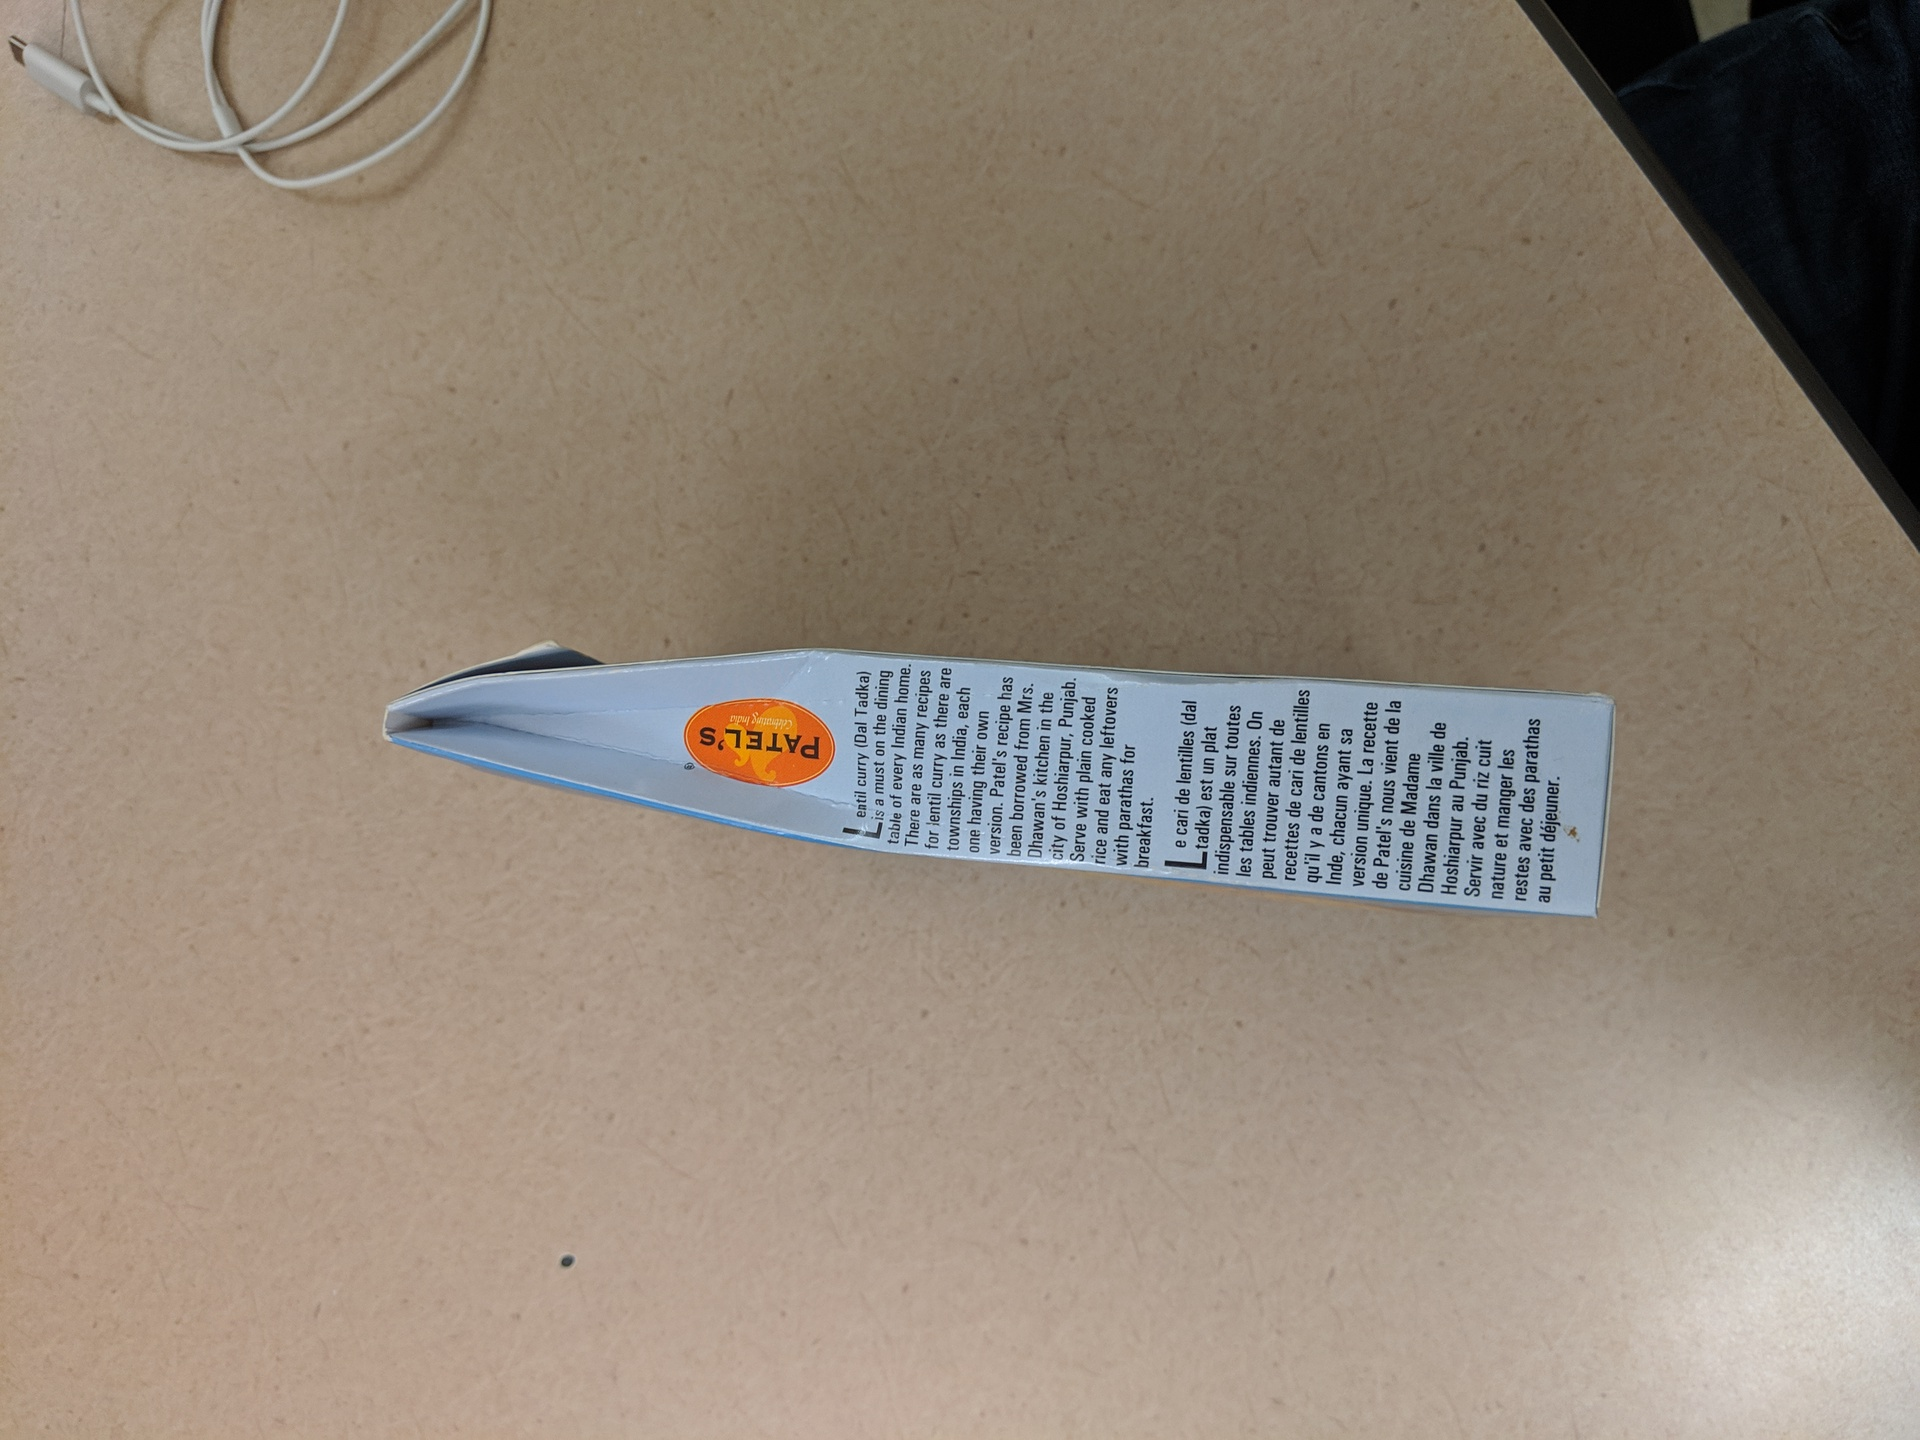patels_dal_tadka_lentil_curry: (381, 635, 1627, 936)
